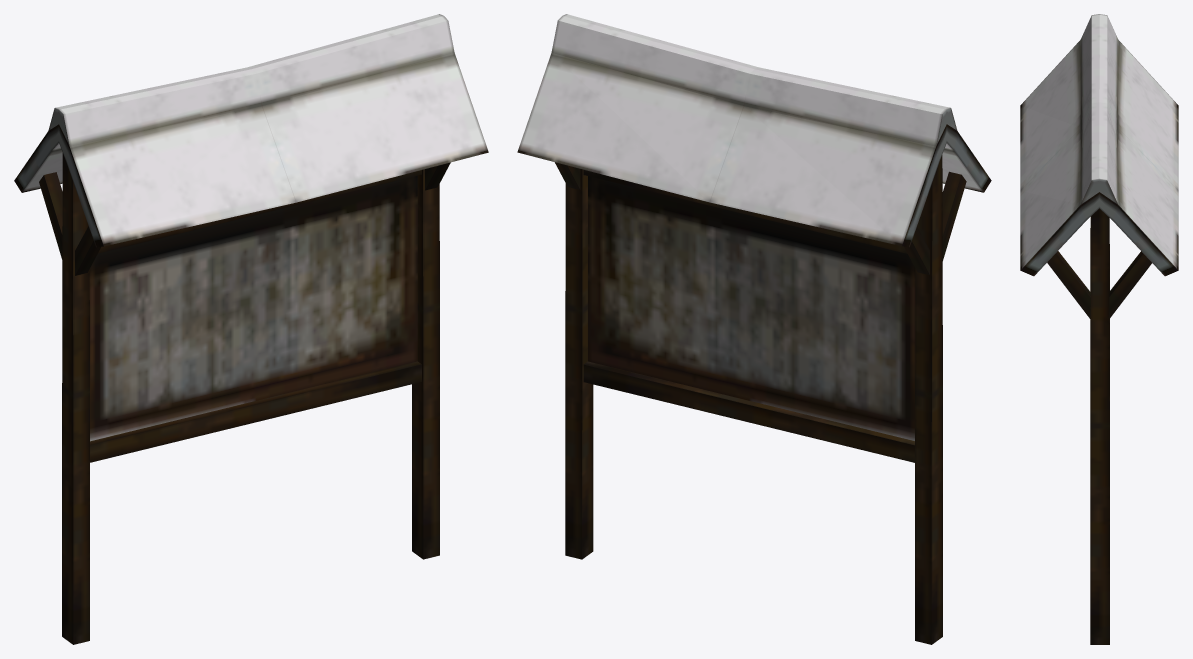
3 views of the same model, side by side, from view 1: azimuth 30°, elevation 25°; view 2: azimuth 150°, elevation 25°; view 3: azimuth 270°, elevation 25° (orthographic). The views are drawn at different scales.
Visible parts, largest first — view 1: Sphere01; view 2: Sphere01; view 3: Sphere01.
Part boxes in pixels (bbox=[...]): Sphere01: bbox=[14, 14, 488, 644]; Sphere01: bbox=[517, 14, 991, 644]; Sphere01: bbox=[1020, 14, 1178, 644].
Size of the model in its own units: 2.27 by 3.01 by 0.9184.
Materials: 1 (1 with a texture image).
